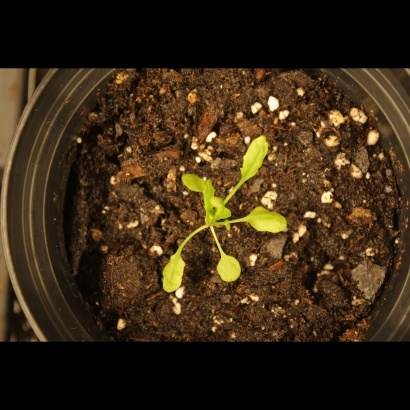leaf: (234, 131, 277, 190), (246, 203, 291, 242), (160, 249, 190, 299), (213, 249, 245, 287), (180, 169, 210, 199), (206, 196, 233, 227)
